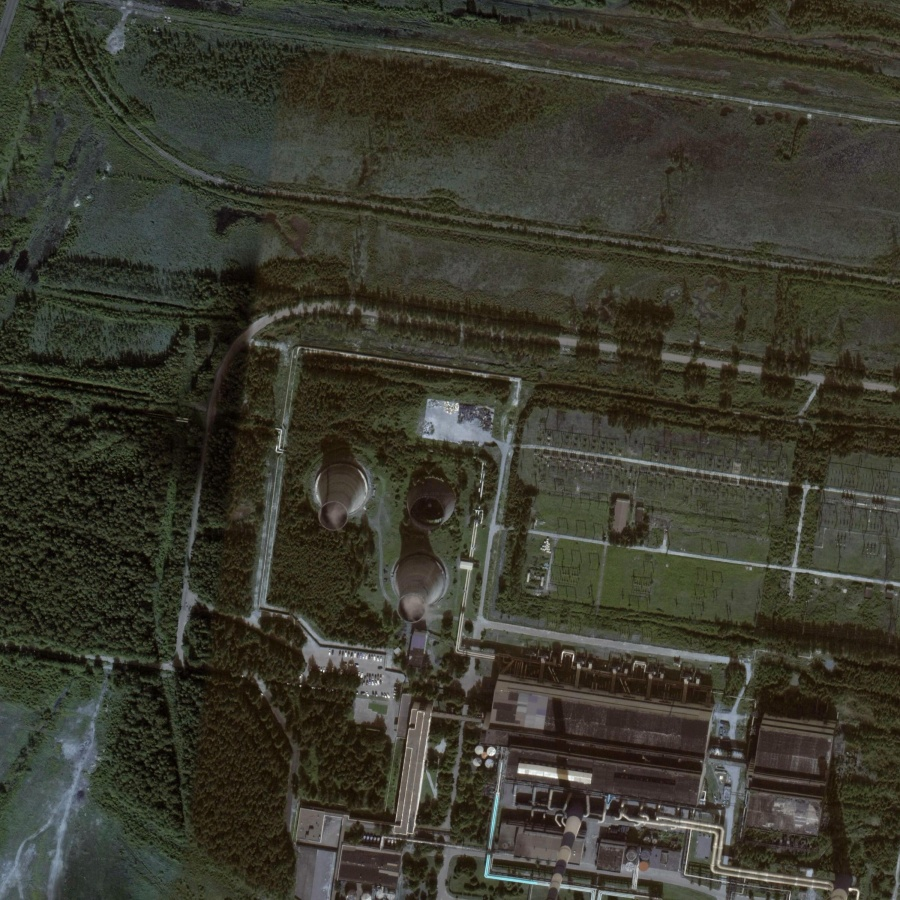PowerPlant: (287, 399, 486, 645)
